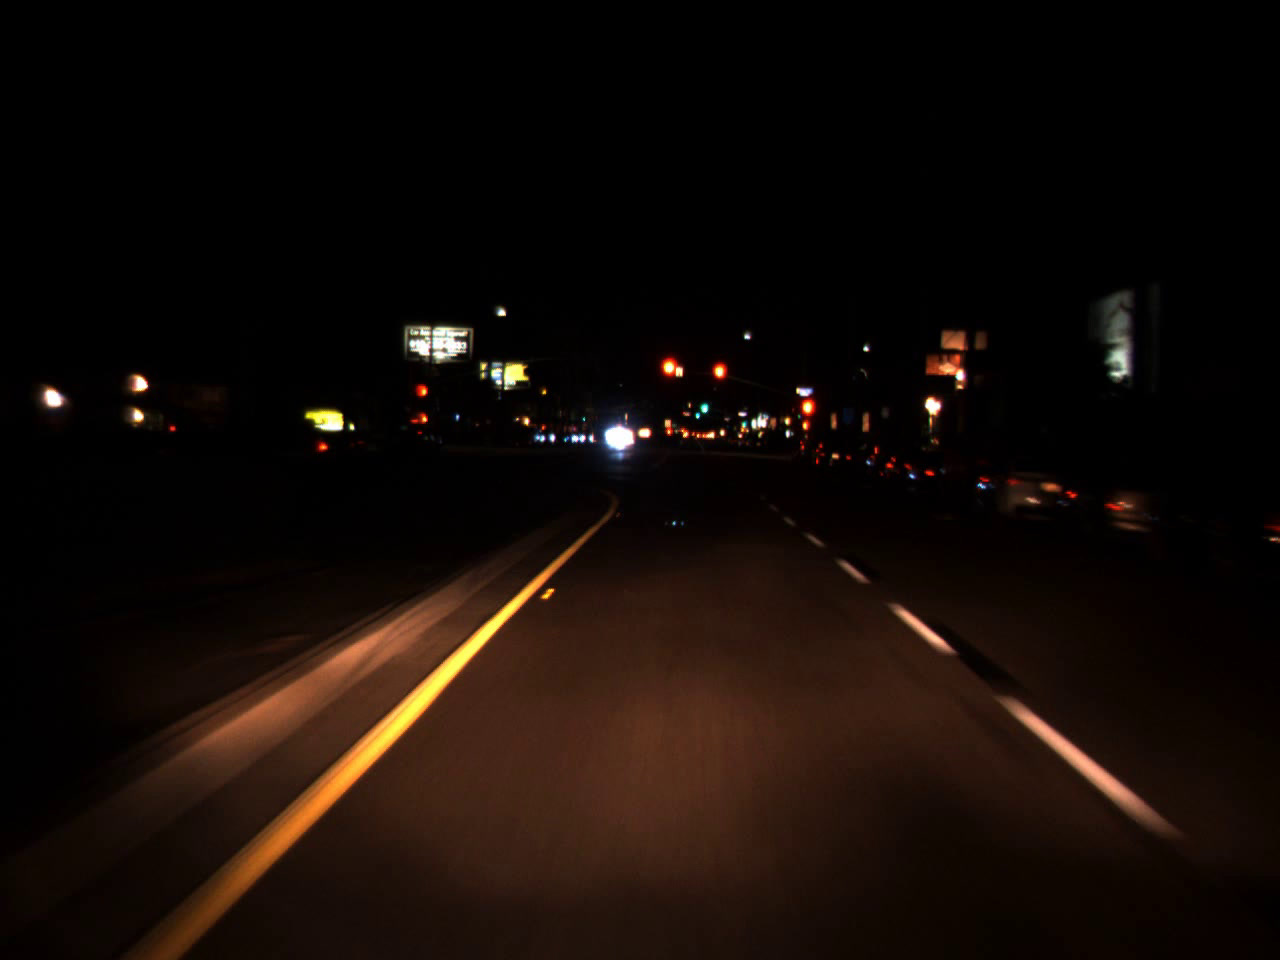go: (699, 397, 709, 412), (741, 413, 748, 428), (693, 407, 700, 419)
stop: (659, 355, 681, 398), (799, 396, 817, 439), (711, 360, 729, 397), (415, 383, 430, 410)
